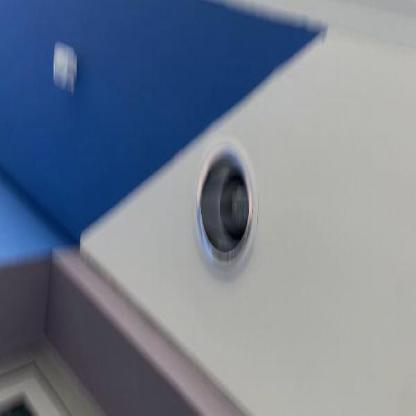light_off: (188, 115, 271, 292)
